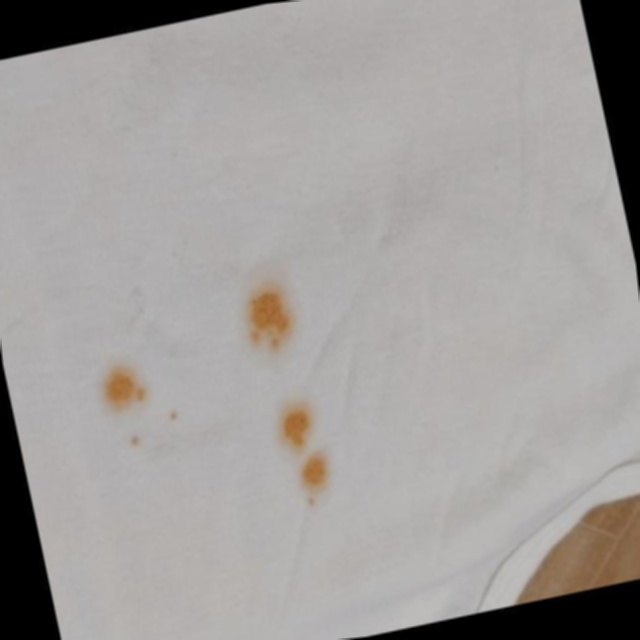kimchi: (90, 349, 161, 423), (239, 274, 300, 358), (297, 454, 345, 515), (274, 397, 321, 457), (118, 432, 149, 457), (166, 402, 194, 426)
